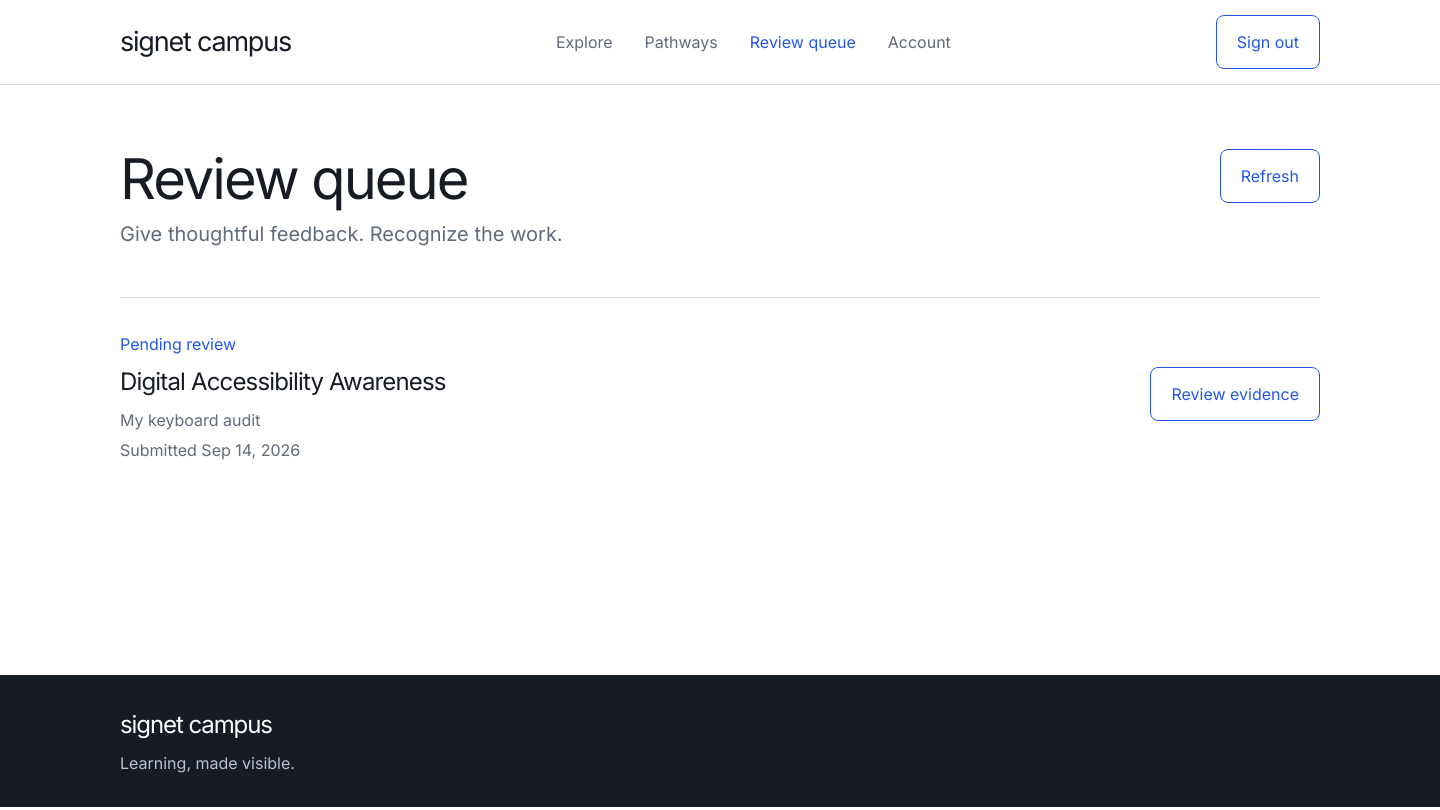
it: uses the current version for a review and reports a stale update
Click the button "Review evidence".
click(1235, 394)  # box top-left (1150, 367), bottom-right (1320, 421)
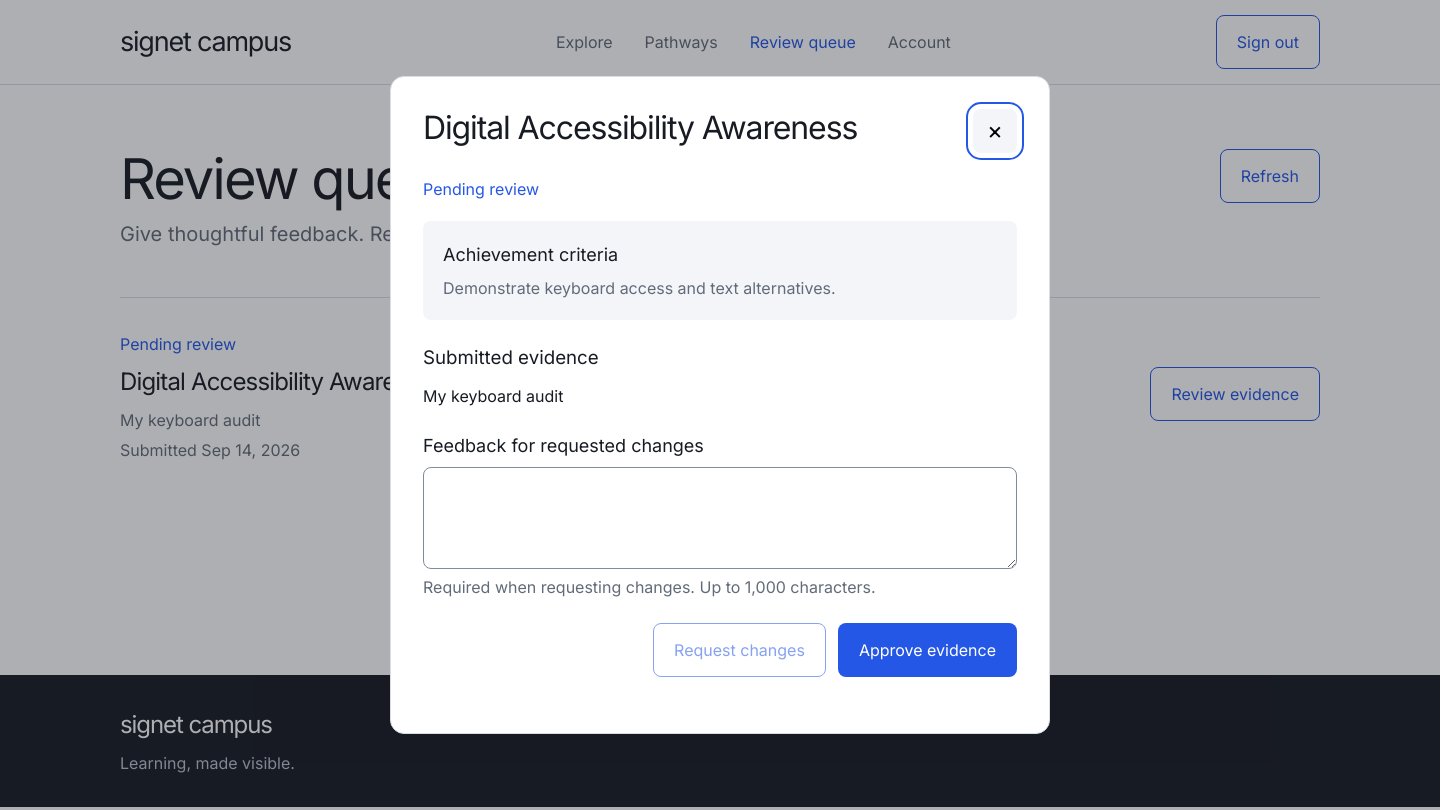
Click the button "Approve evidence".
click(927, 650)  # box top-left (838, 623), bottom-right (1017, 677)
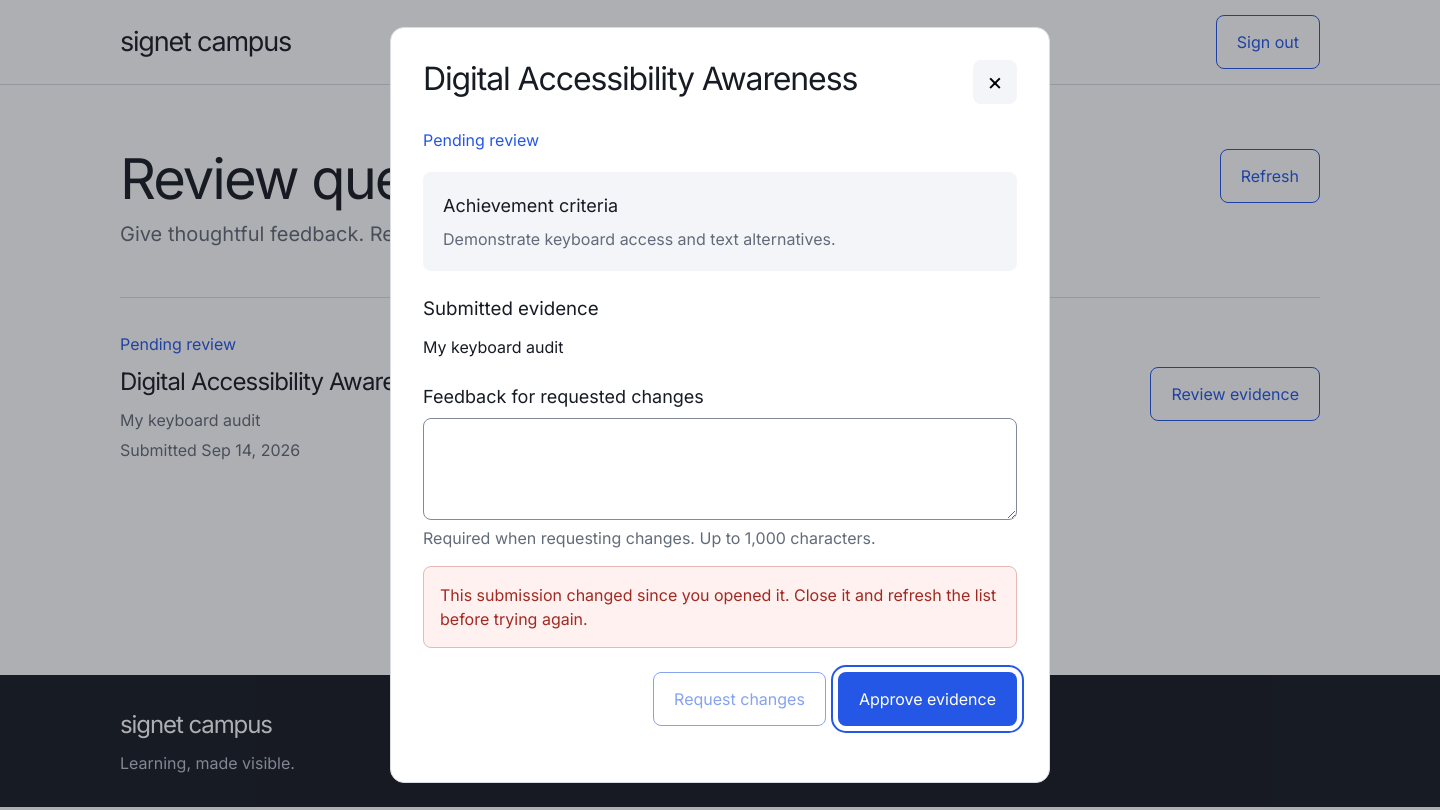
Now the message shows "changed since you opened it", box top-left (440, 585), bottom-right (996, 629)
